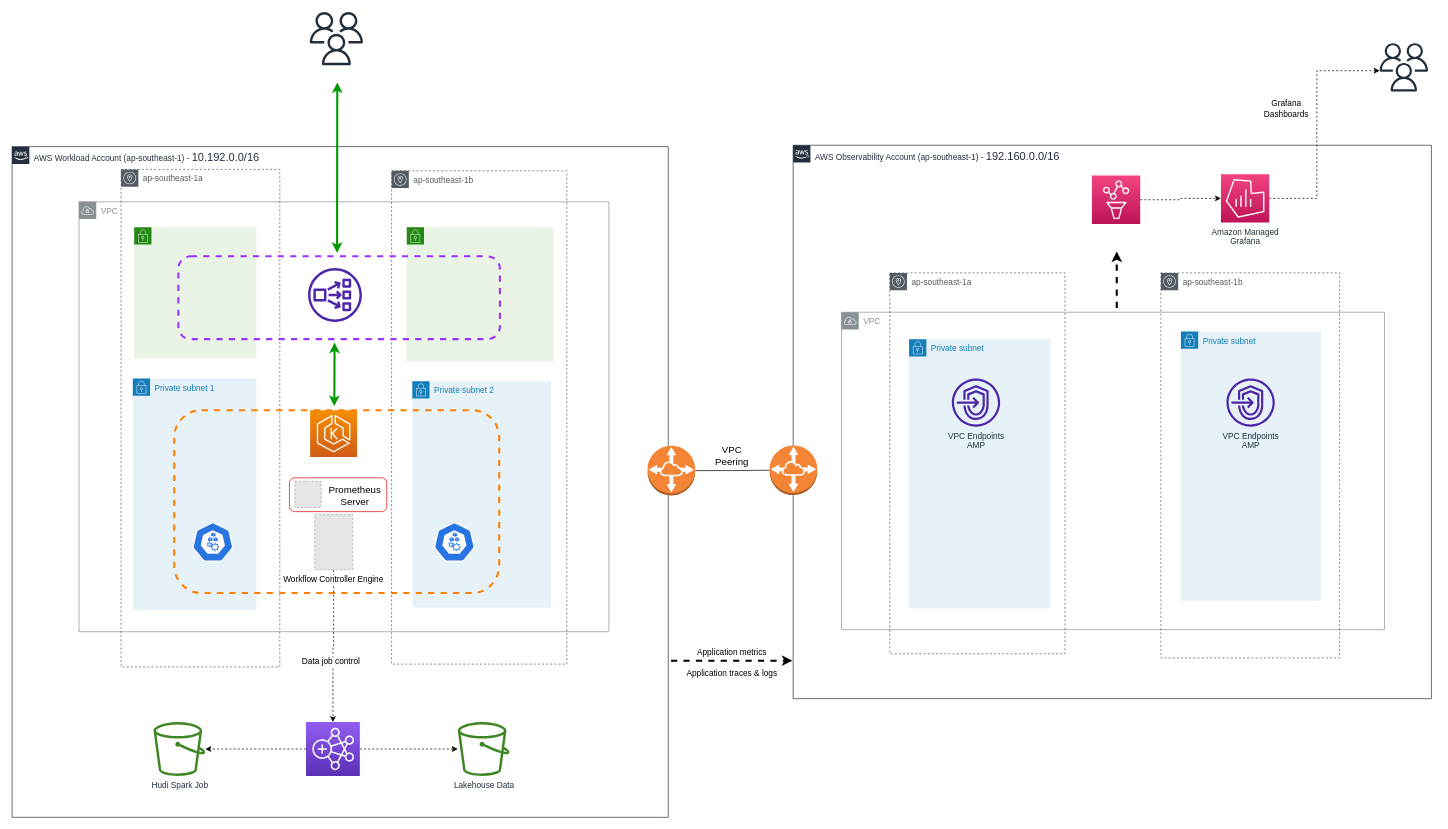
Some shapes in this 1448 by 829 pixel diagram are drawn without their labels. Grey dashed boxes stand in for pictures. Here are the shapes that lost their labels. From the top down, the centre of each, then its label:
pixel 336 38: APPLICATION USERS
pixel 1403 67: Engineering & Operation Teams
pixel 1115 199: Amazon Managed Service for Prometheus
pixel 195 292: Public subnet 1
pixel 335 295: NLB
pixel 480 294: Public subnet 2
pixel 333 433: EKS Workload
pixel 332 748: EMR (Spark, Hudi, Trino)
